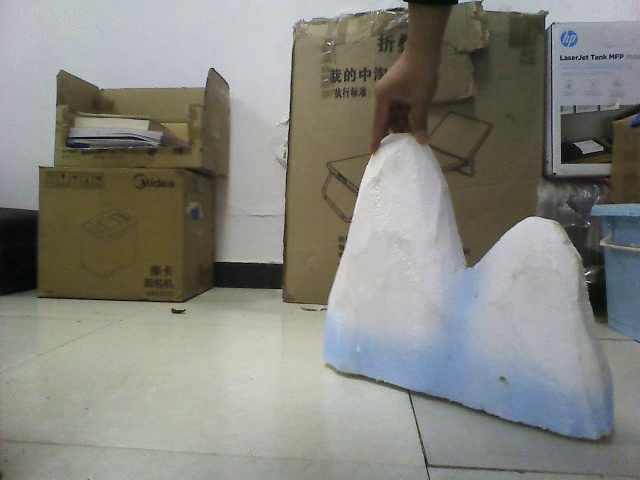iceberg: (318, 124, 620, 440)
